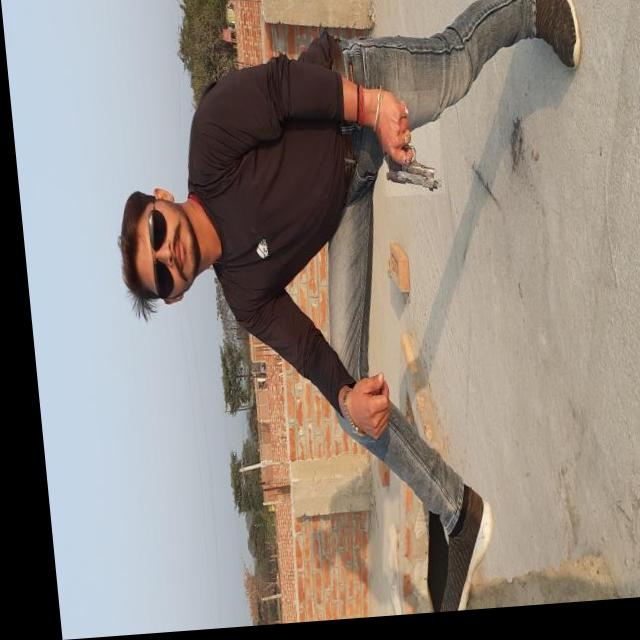handgun: (373, 95, 443, 204)
